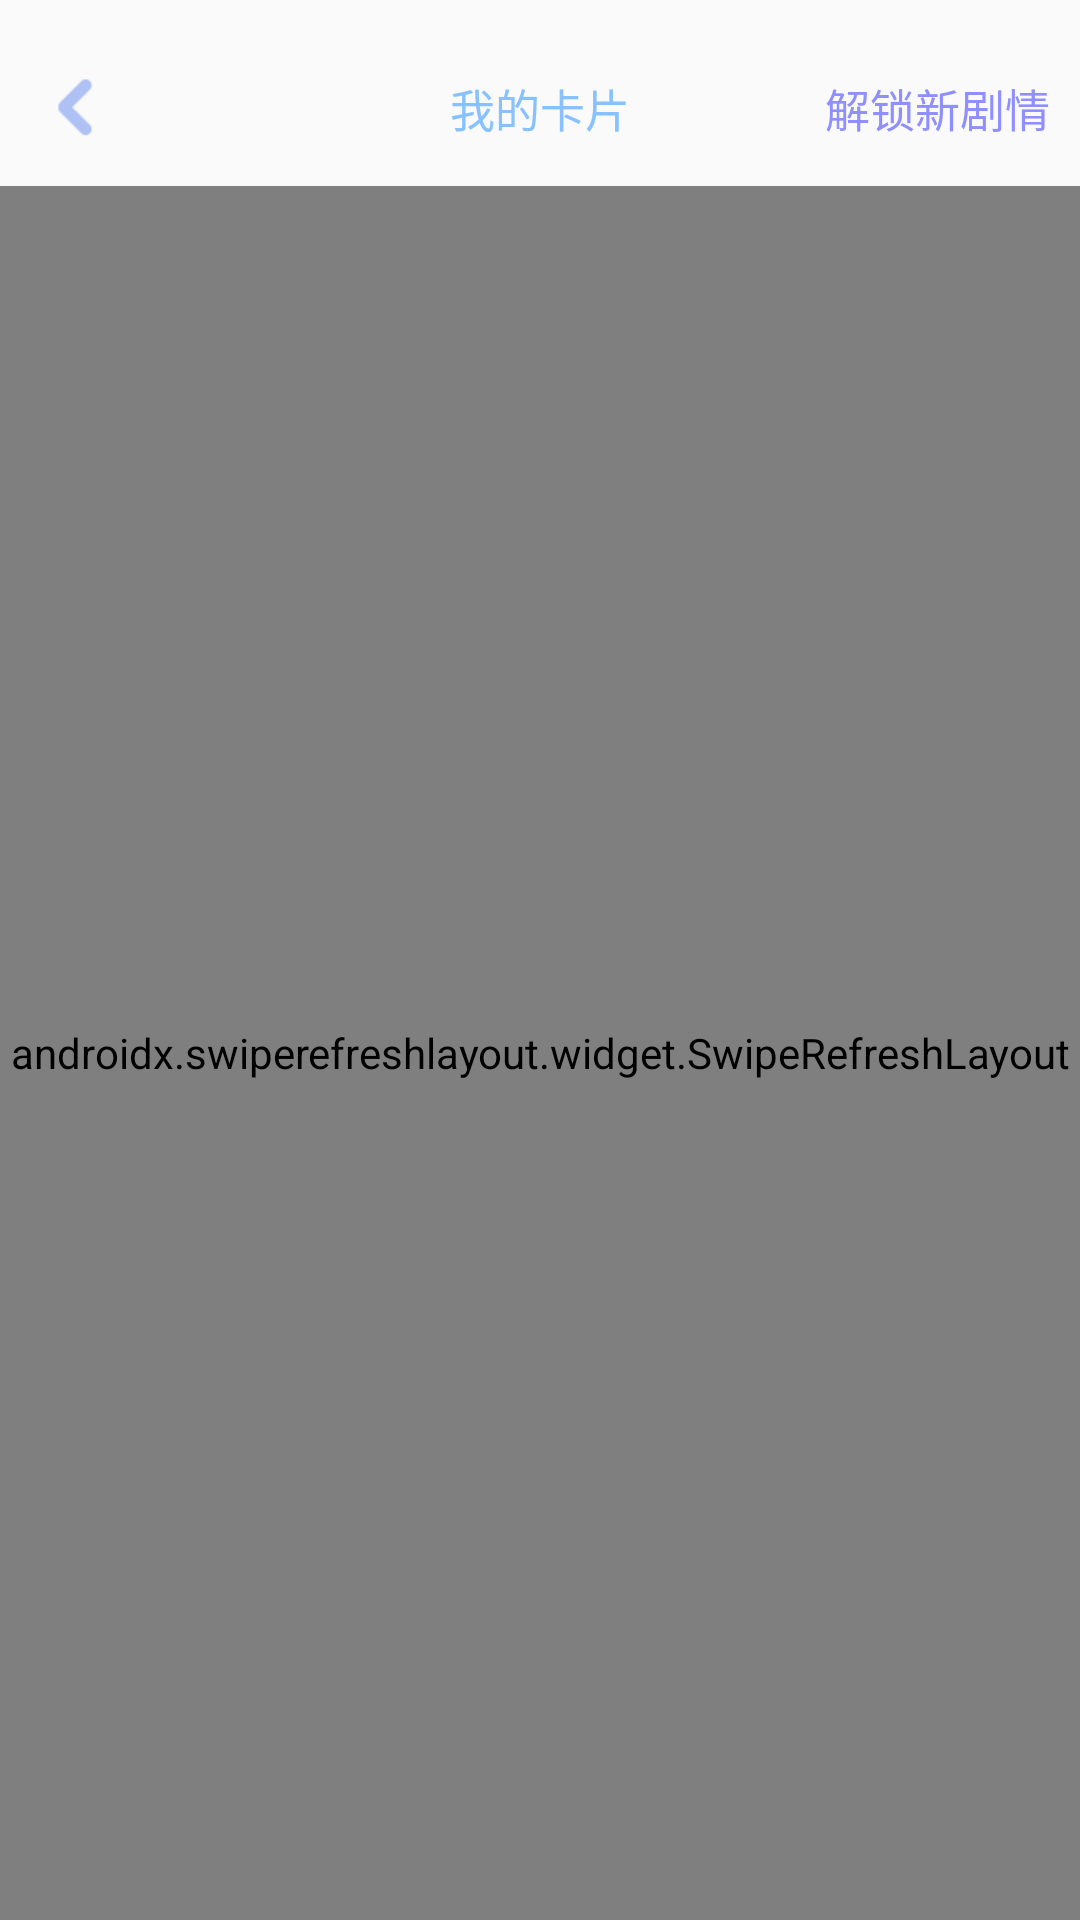

Where to tap for icons on this 1080 x 1920 app screen, as (x,y):
back: (75,107)
